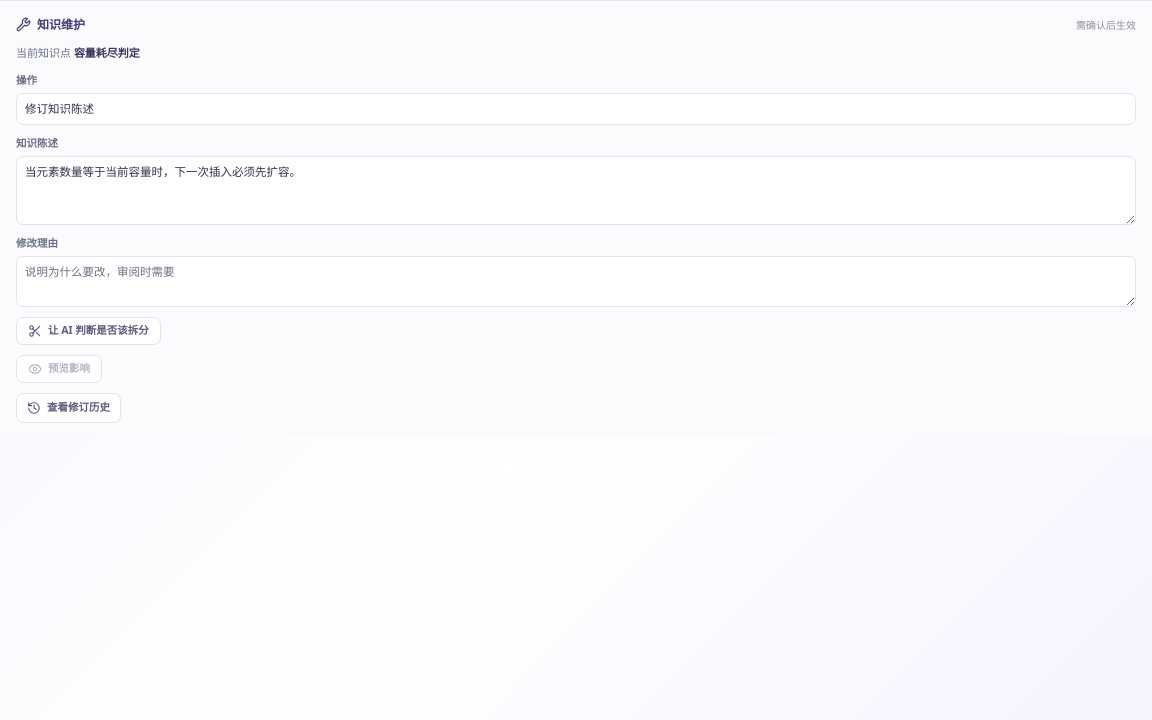
知识维护面板 › 确认失败时说明知识库保持原修订
Type "补充扩容触发条件的精确表述" into the text box labelled "修改理由". click: x=576, y=281
box: x1=16 y1=256 x2=1136 y2=306
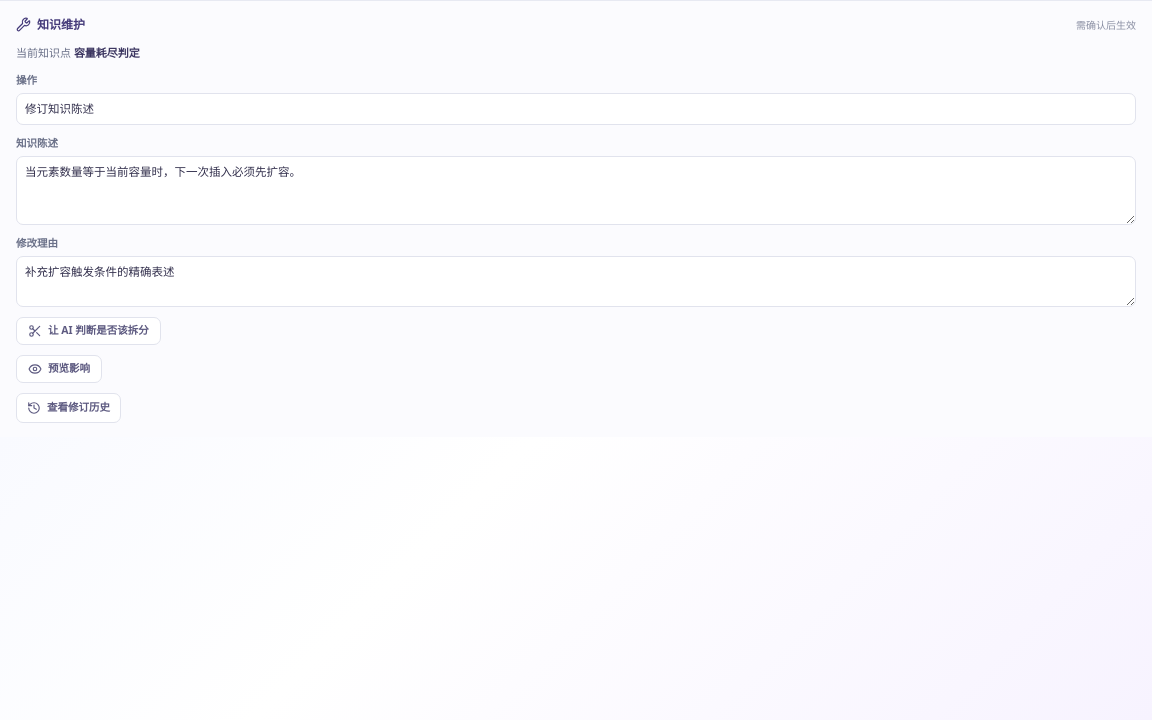
Click the button with class "is-preview". click: x=59, y=368
box: x1=16 y1=354 x2=102 y2=382
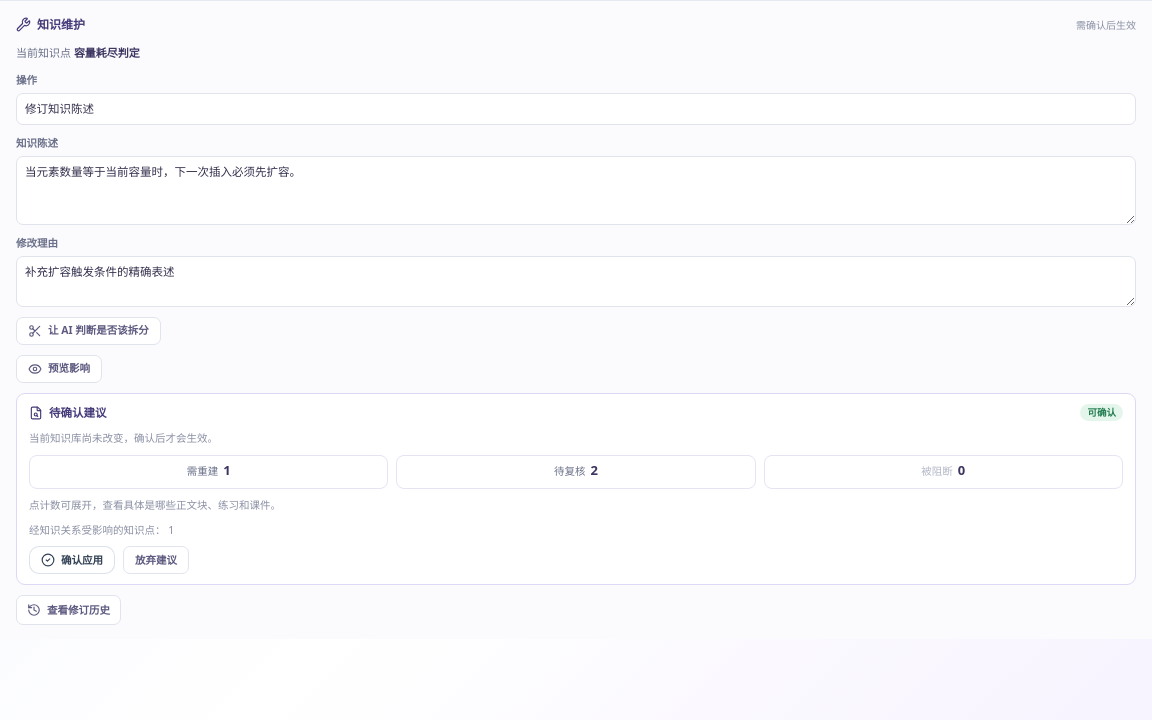
Click the button with class "is-primary". click: x=72, y=560
box: x1=29 y1=546 x2=115 y2=574
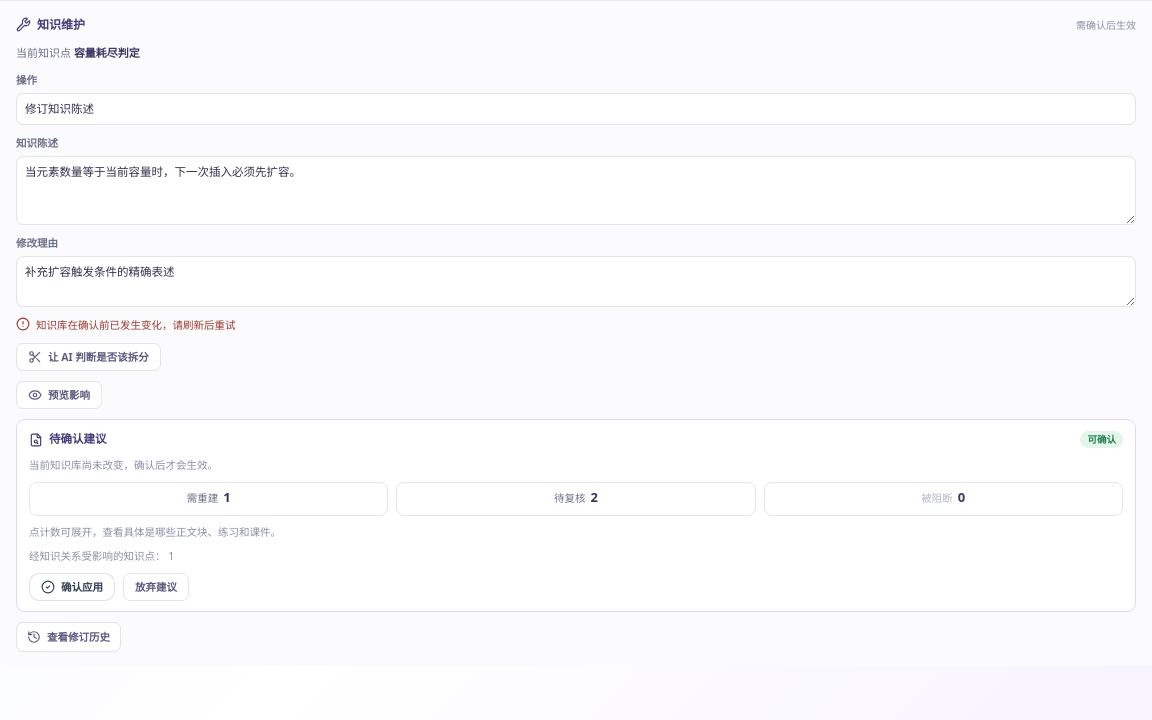
Expected: the message with class "knowledge-command-error" shows "知识库在确认前已发生变化", x1=36 y1=318 x2=236 y2=332
